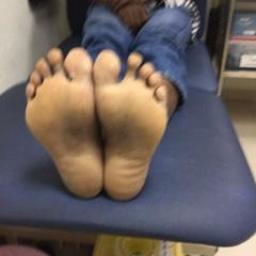Plantar View -Both Feet-: (16, 40, 183, 210)
